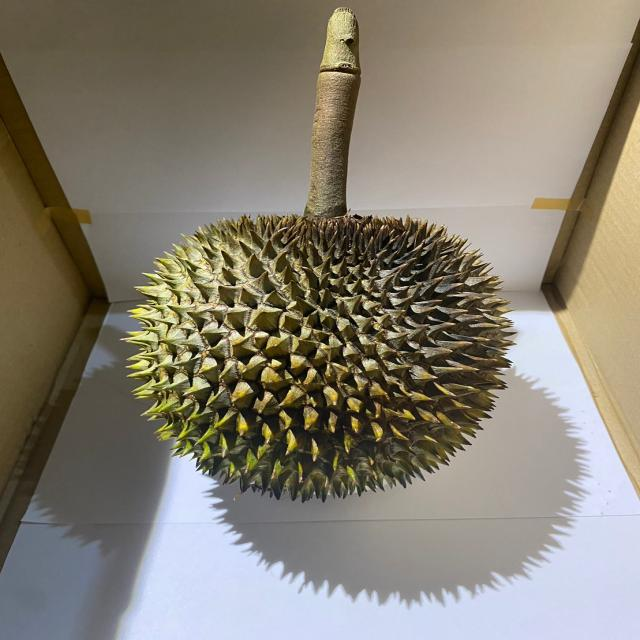immature: (116, 207, 513, 509)
